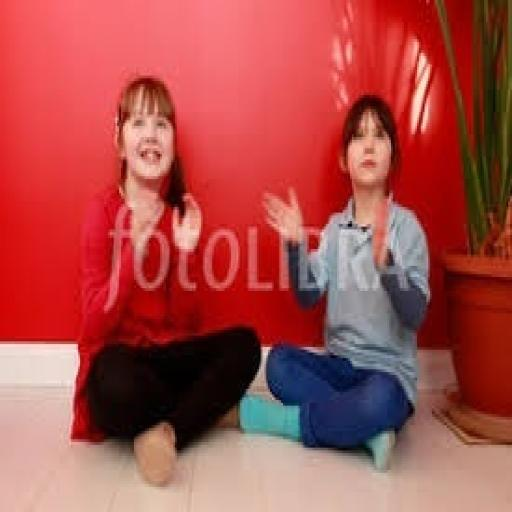clapping: (69, 73, 262, 487), (236, 92, 432, 473)
